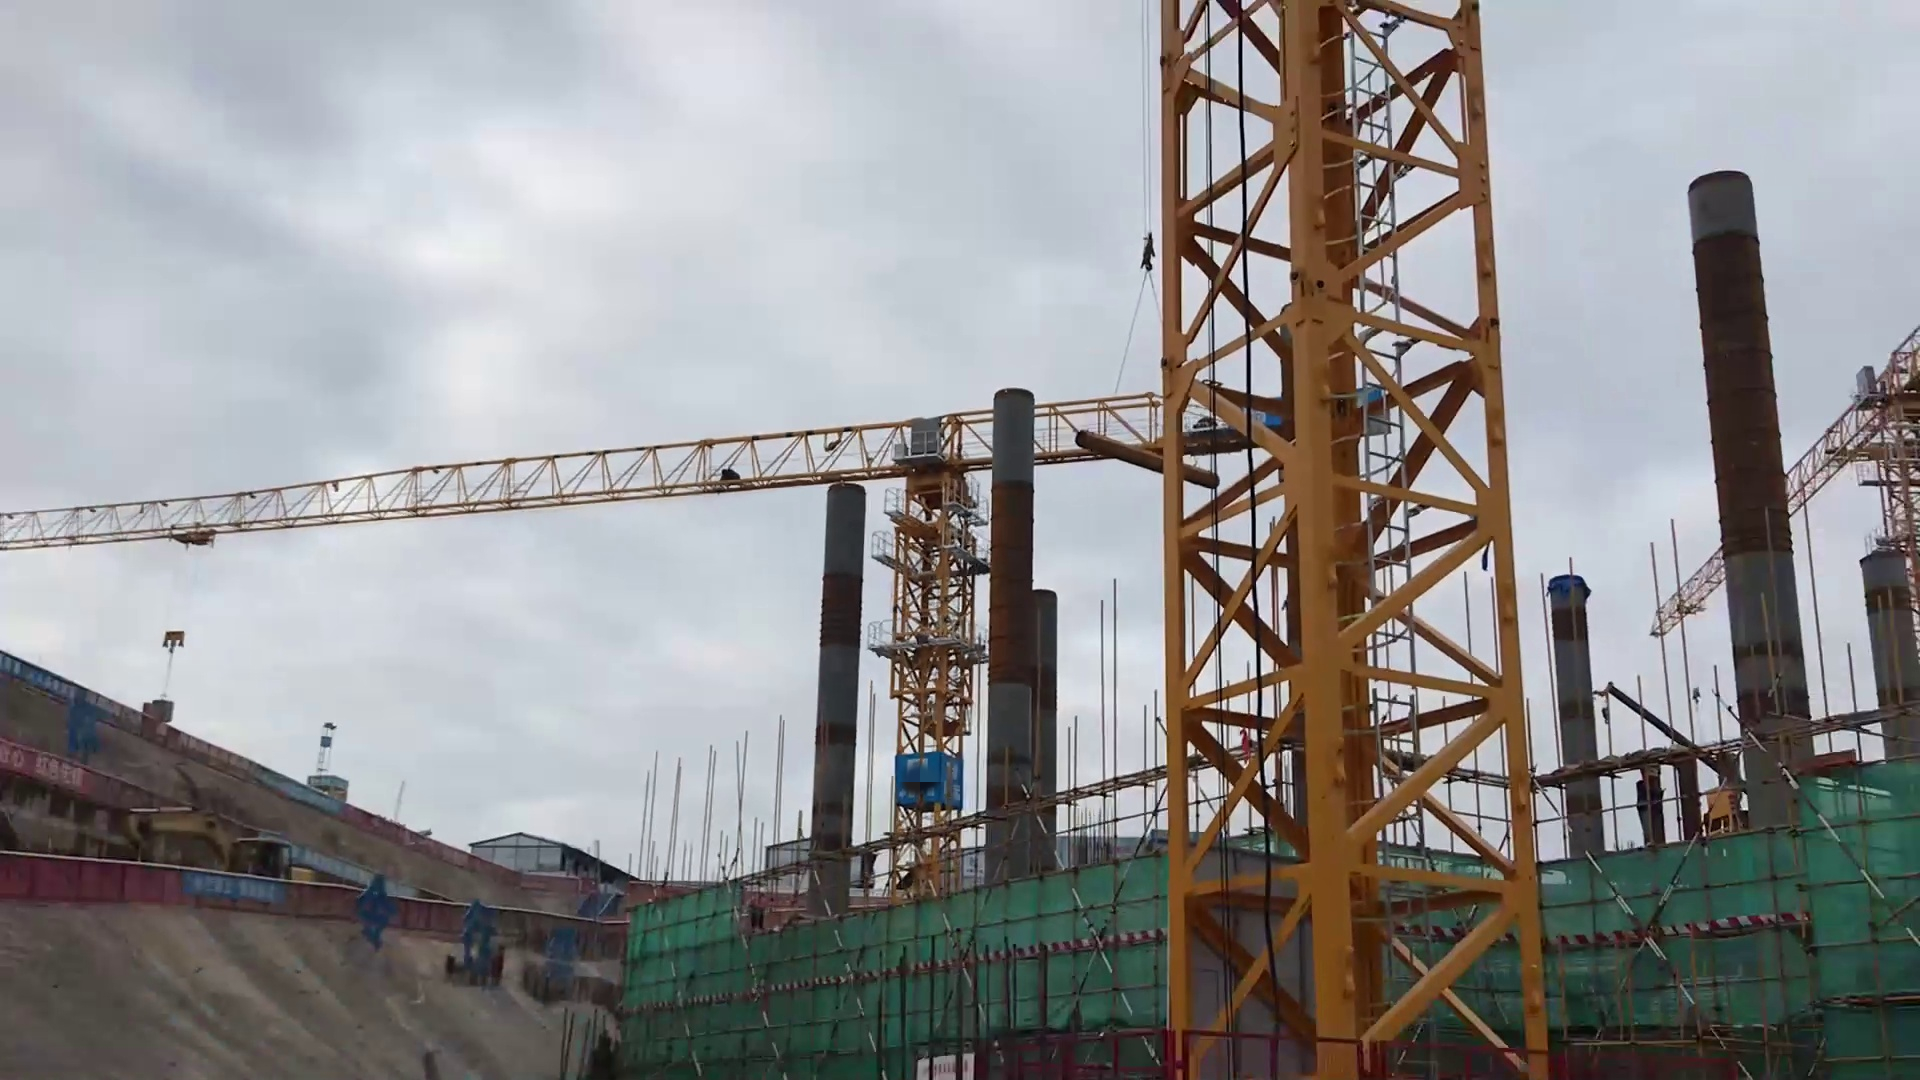ebox: (1706, 789, 1739, 835)
hook: (161, 628, 189, 657)
slogan: (1, 738, 112, 800)
